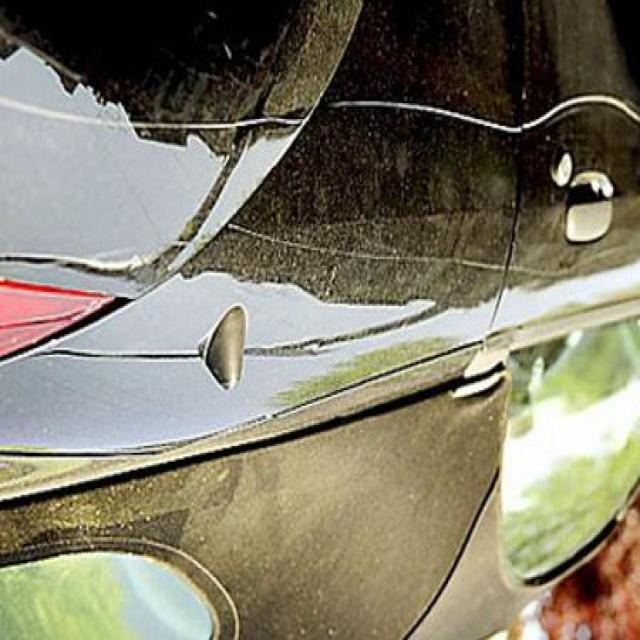scratch: (323, 72, 640, 140), (60, 93, 311, 140)
